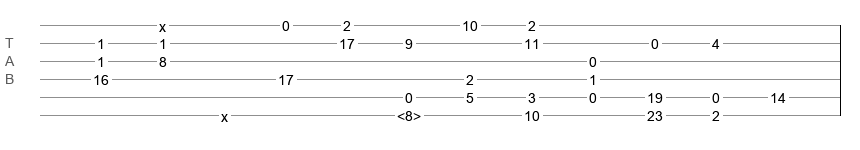0: (282, 18, 290, 28), (405, 90, 413, 100), (589, 90, 597, 100), (589, 54, 597, 64), (651, 36, 659, 46), (712, 90, 720, 100)
1: (97, 54, 105, 64), (97, 36, 105, 46), (159, 36, 167, 46), (589, 72, 597, 82)
10: (462, 18, 478, 28), (524, 108, 540, 118)
11: (524, 36, 540, 46)
14: (770, 90, 786, 100)
16: (93, 72, 109, 82)
17: (278, 72, 294, 82), (339, 36, 355, 46)
19: (647, 90, 663, 100)
2: (343, 18, 351, 28), (466, 72, 474, 82), (528, 18, 536, 28), (712, 108, 720, 118)
23: (647, 108, 663, 118)
3: (528, 90, 536, 100)
4: (712, 36, 720, 46)
5: (466, 90, 474, 100)
8: (159, 54, 167, 64)
9: (405, 36, 413, 46)
harmonic: (397, 108, 421, 118)
x: (159, 19, 166, 27), (221, 109, 228, 117)
